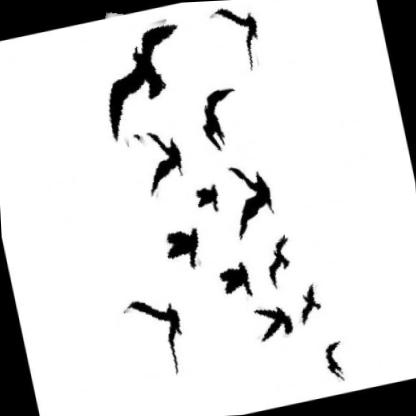bird: (88, 10, 198, 152), (116, 284, 199, 386), (217, 153, 284, 246), (201, 0, 270, 75), (134, 118, 196, 199), (191, 80, 248, 157), (157, 215, 210, 274), (246, 295, 298, 347), (211, 255, 260, 309), (259, 231, 301, 291), (316, 335, 356, 386), (288, 278, 328, 328), (189, 179, 223, 217)
